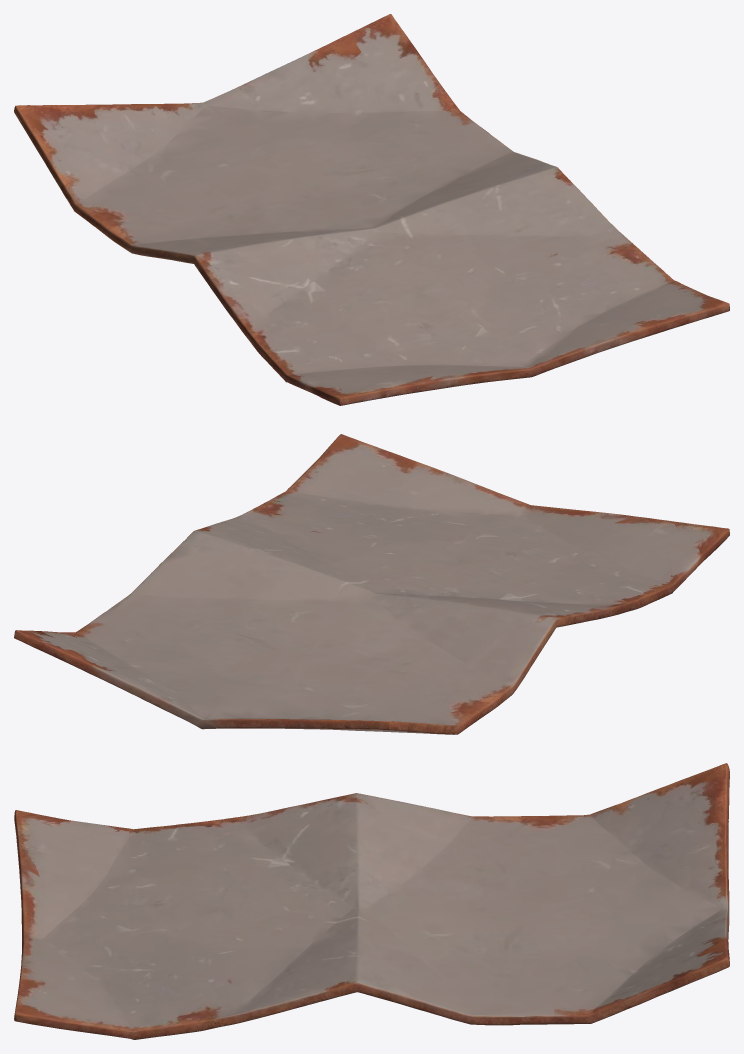
File: mat_sheet_metal_tonkiy_idle.glb
3 renders of one model, top to bottom at view 1: azimuth 30°, elevation 25°; view 2: azimuth 150°, elevation 25°; view 3: azimuth 270°, elevation 25°, orthographic. The views are drawn at different scales.
Visible parts, largest first — view 1: tripo_node_7e52b508-4913-47fa-91eb-c9cf518047f5; view 2: tripo_node_7e52b508-4913-47fa-91eb-c9cf518047f5; view 3: tripo_node_7e52b508-4913-47fa-91eb-c9cf518047f5.
Boxes of the visible parts, bbox=[...] form: tripo_node_7e52b508-4913-47fa-91eb-c9cf518047f5: bbox=[14, 14, 729, 405]; tripo_node_7e52b508-4913-47fa-91eb-c9cf518047f5: bbox=[14, 434, 729, 734]; tripo_node_7e52b508-4913-47fa-91eb-c9cf518047f5: bbox=[14, 763, 729, 1039].
Bounding box in the file's own units: 1 × 0.2011 × 1.48.
Materials: 1 (1 with a texture image).
